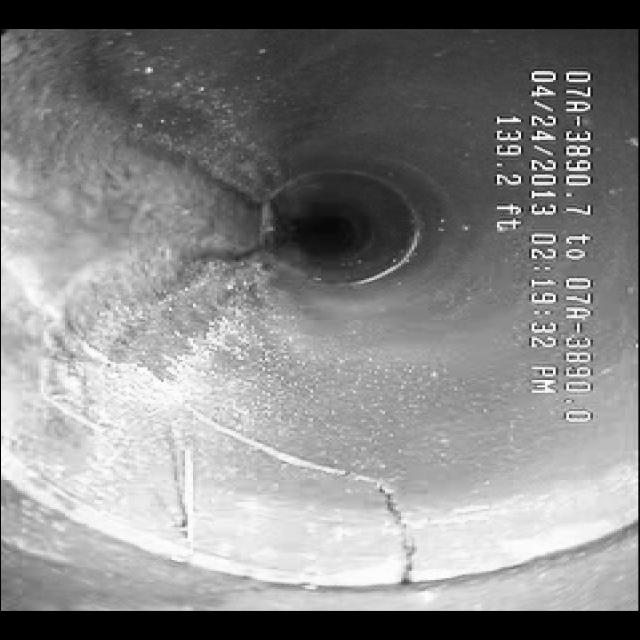Crack: (162, 418, 442, 592)
